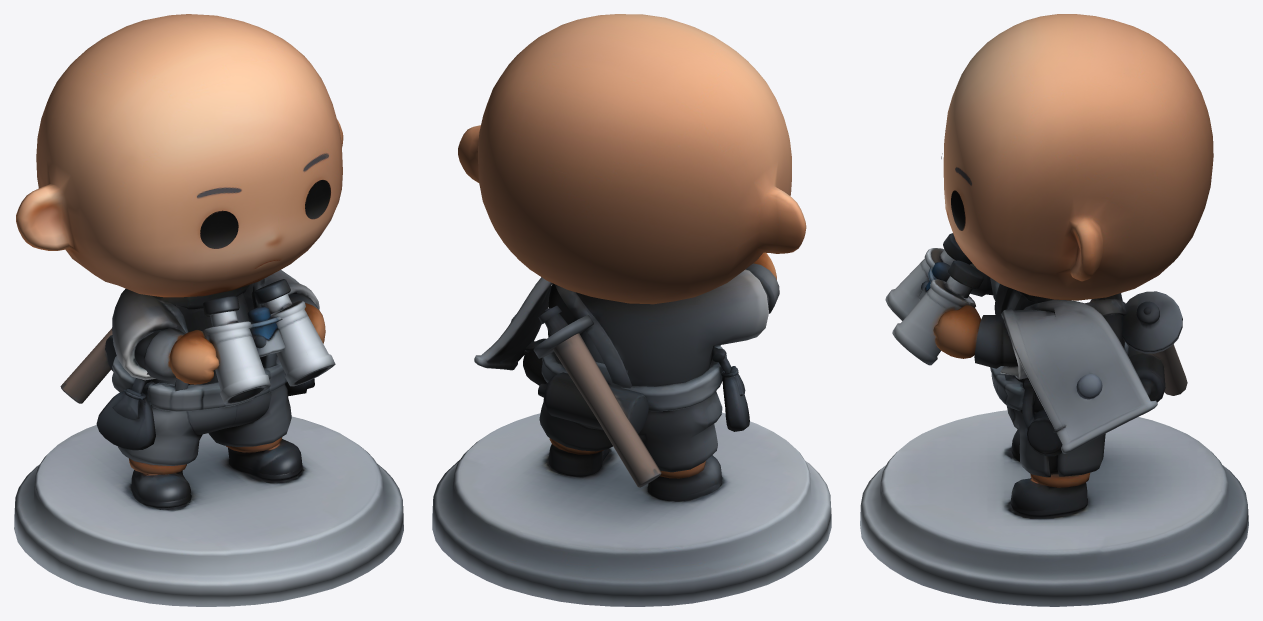
Rendered from malay-bishop.glb.
3 renders of one model, left to right at view 1: azimuth 30°, elevation 25°; view 2: azimuth 150°, elevation 25°; view 3: azimuth 270°, elevation 25°, orthographic. The views are drawn at different scales.
Parts seen in each view (by area): view 1: tripo_302894c3_f81e_4e8b_ac6c_47527fe614db; view 2: tripo_302894c3_f81e_4e8b_ac6c_47527fe614db; view 3: tripo_302894c3_f81e_4e8b_ac6c_47527fe614db.
Boxes of the visible parts, x1,y1,x2,y2 form: tripo_302894c3_f81e_4e8b_ac6c_47527fe614db: [14, 14, 403, 606]; tripo_302894c3_f81e_4e8b_ac6c_47527fe614db: [432, 14, 831, 606]; tripo_302894c3_f81e_4e8b_ac6c_47527fe614db: [860, 14, 1248, 606].
Size of the model in its own units: 0.7485 by 0.9995 by 0.7241.
Materials: 1 (1 with a texture image).
